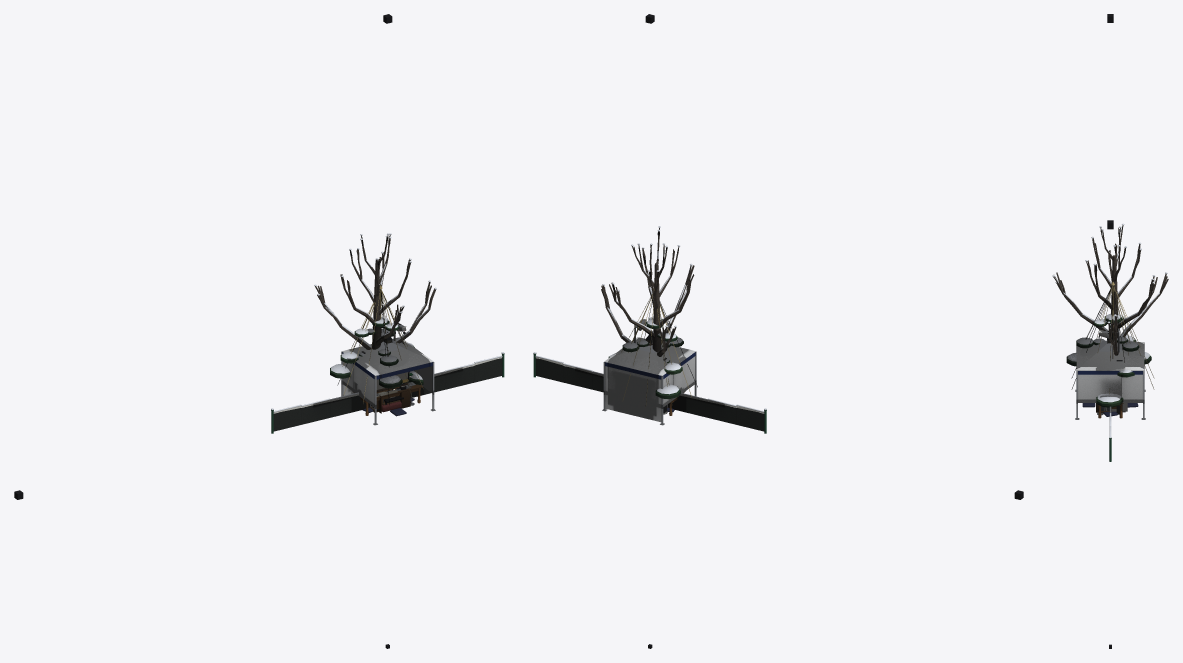
Rendered from InkboundModels_Campus.fbx.
3 renders of one model, left to right at view 1: azimuth 30°, elevation 25°; view 2: azimuth 150°, elevation 25°; view 3: azimuth 270°, elevation 25°, orthographic.
Parts seen in each view (by area): view 1: TennisNet, EventTent, GinkgoBare, PineYukizuri; view 2: EventTent, TennisNet, GinkgoBare, PineYukizuri; view 3: EventTent, GinkgoBare, PineYukizuri.
Boxes of the visible parts, x1,y1,x2,y2 form: TennisNet: (271,352,504,433); EventTent: (341,337,435,425); GinkgoBare: (314,233,436,349); PineYukizuri: (330,285,423,404); EventTent: (602,337,696,425); TennisNet: (533,352,766,433); GinkgoBare: (601,226,694,356); PineYukizuri: (608,288,697,406); EventTent: (1075,340,1145,419); GinkgoBare: (1052,223,1168,355); PineYukizuri: (1066,282,1154,407).
Size of the model in its own units: 84.71 by 105 by 17.49.
55 materials, 38 textured.
